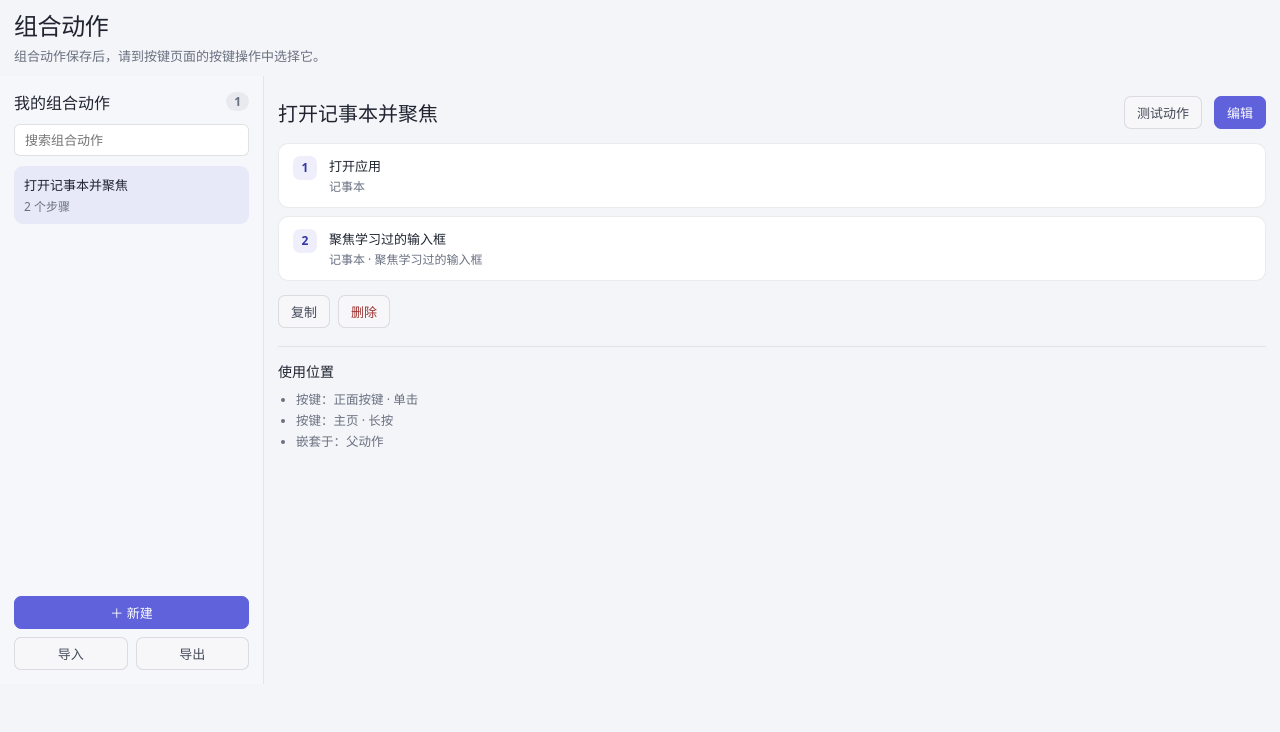
it: 组合动作页 · 库浏览 › 删除确认列出受影响的按键与嵌套引用；确认后调 delete_macro
Click the button "删除" at (364,311), box top-left (338, 295), bottom-right (390, 328)
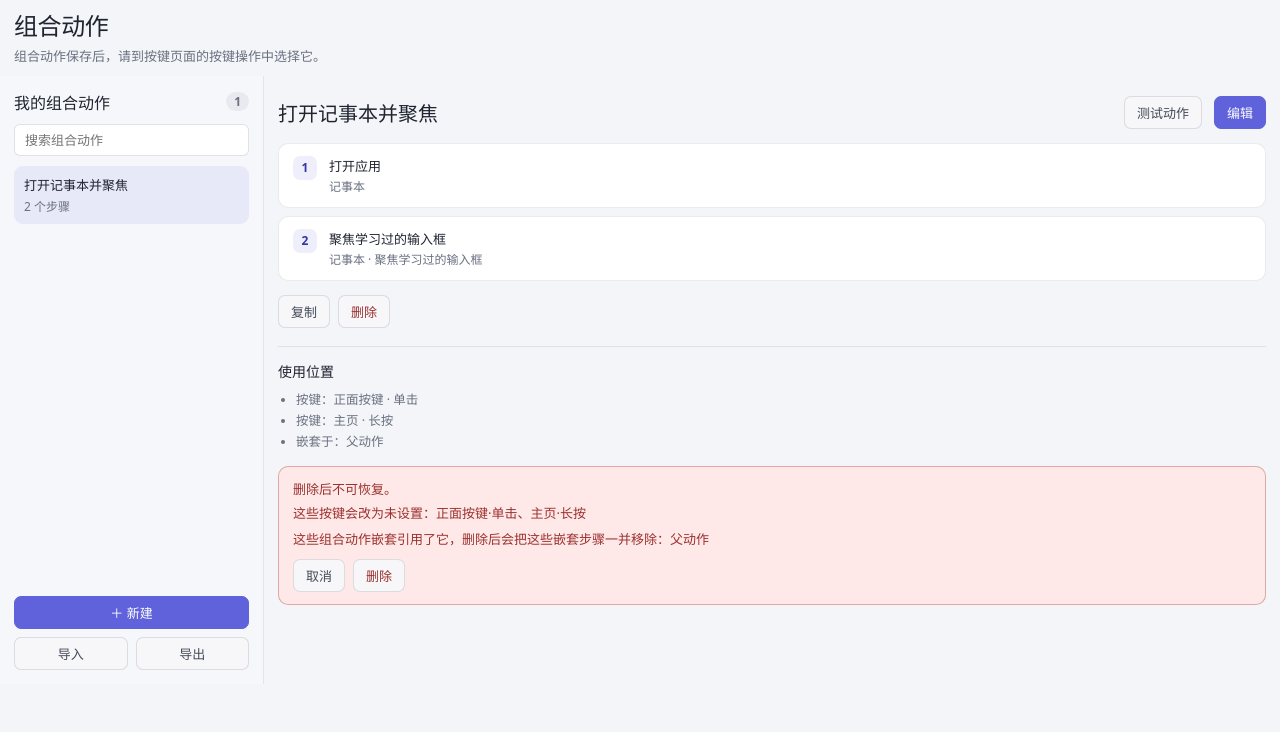
Now the text "这些按键会改为" is shown, box top-left (293, 504), bottom-right (384, 522)
Now the text "正面按键·单击、主页·长按" is shown, box top-left (423, 504), bottom-right (586, 522)
Now the text "这些组合动作嵌套引用了它" is shown, box top-left (293, 530), bottom-right (709, 548)
Click the button "删除" below "这些组合动作嵌套引用了它，删除后会把这些嵌套步骤一并移除：父动作" at (379,576), box top-left (353, 559), bottom-right (405, 592)
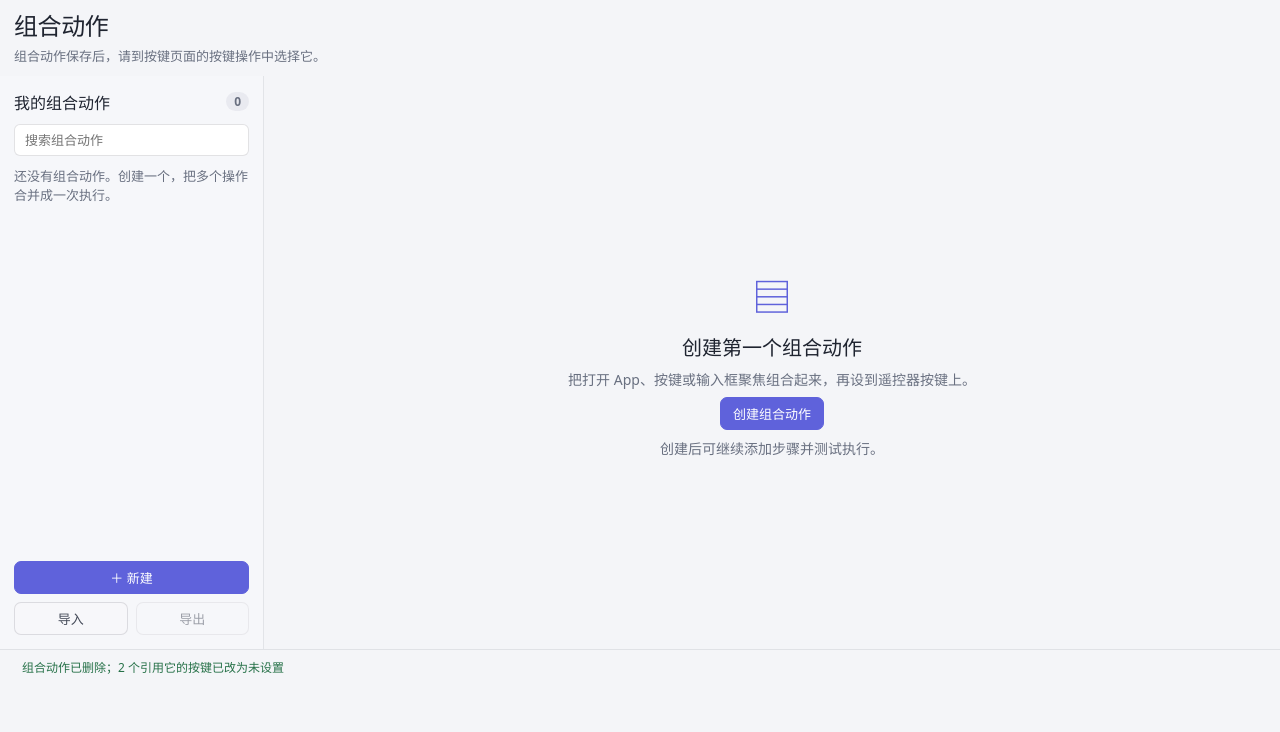
Now the text "2 个引用它的按键已改为未设置" is shown, box top-left (22, 659), bottom-right (284, 676)
